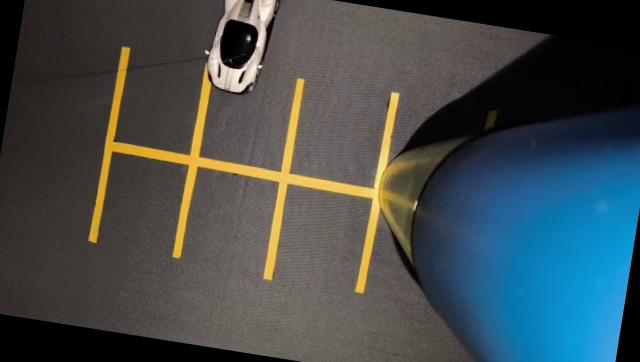toy_car: (176, 0, 316, 122)
